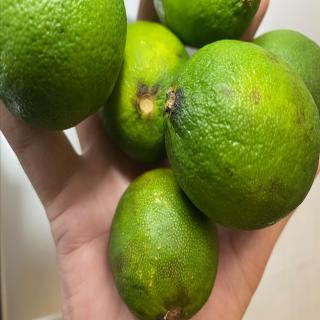Chilli: (162, 38, 320, 231), (108, 167, 219, 319)
Lemon: (1, 0, 128, 132), (98, 20, 190, 162), (251, 29, 320, 116), (153, 0, 261, 48)
